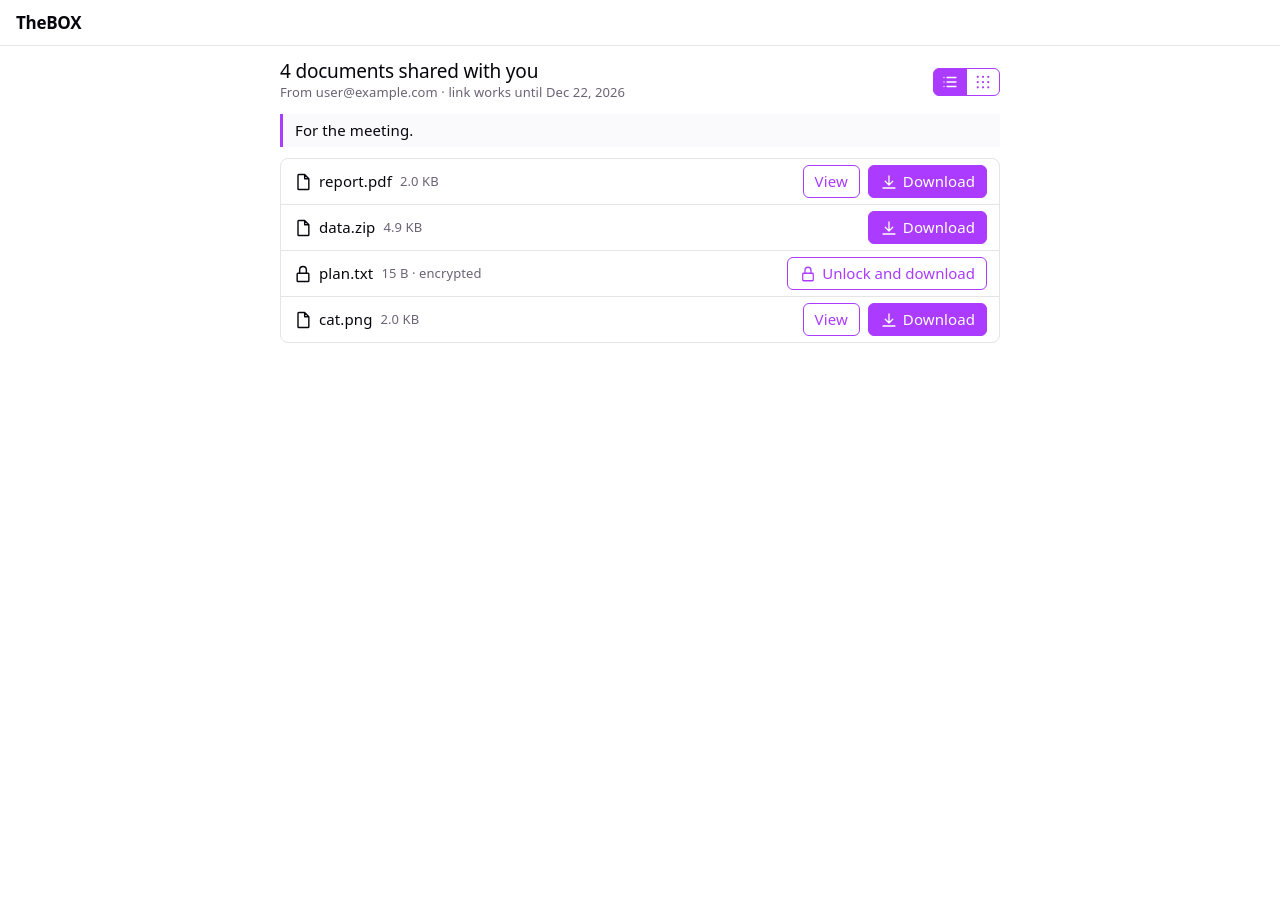
Test: Shared › can show the files as a grid, and photos as a list
The image size is (1280, 900).
Click the button named "Grid view". click: (983,82)
box: 966,68 -> 1000,96
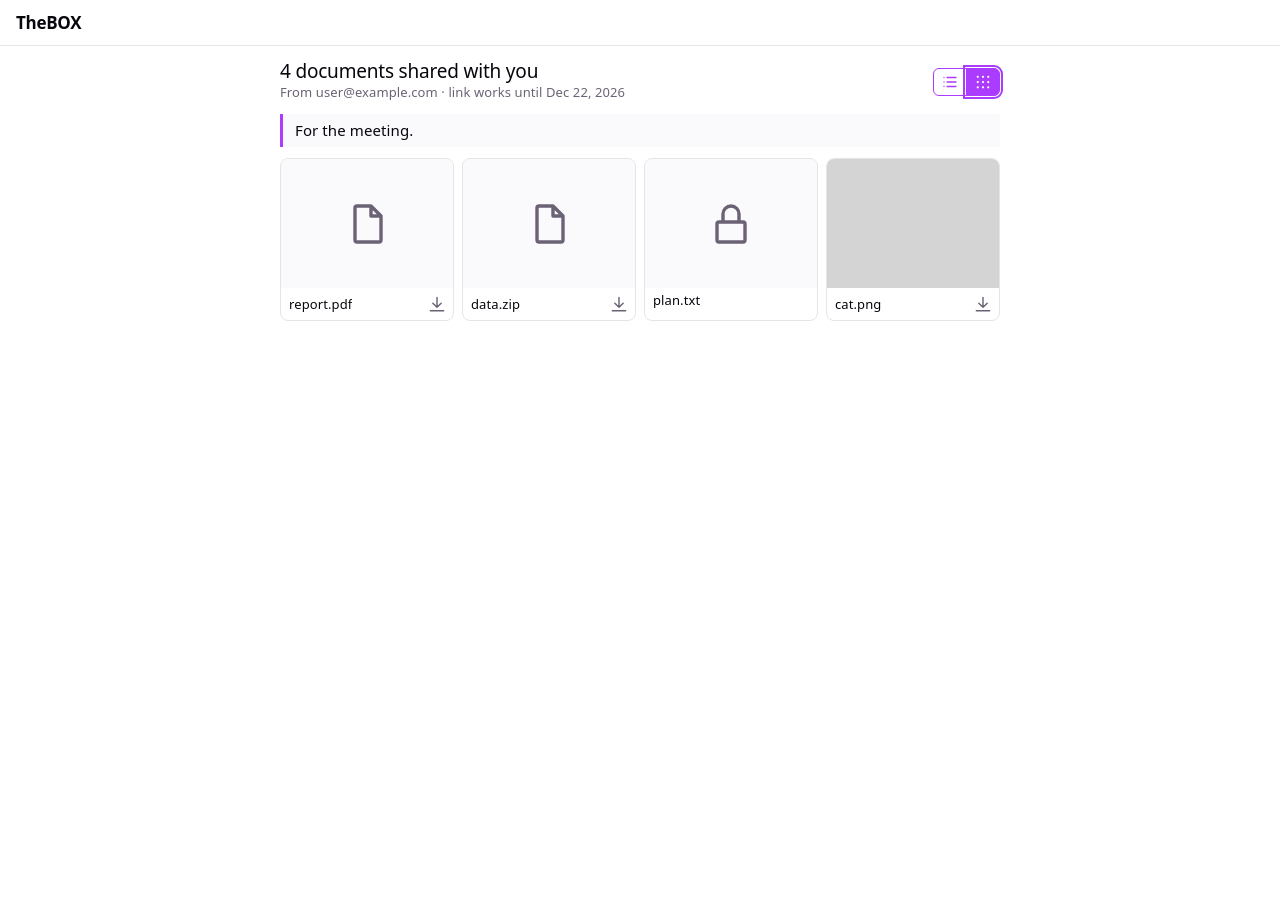
Result: the link named "Download data.zip" is shown at 609,294 -> 629,314
// An encrypted file still asks for its password
Click the button named "Unlock and download plan.txt". click: (731,224)
box: 645,159 -> 817,288
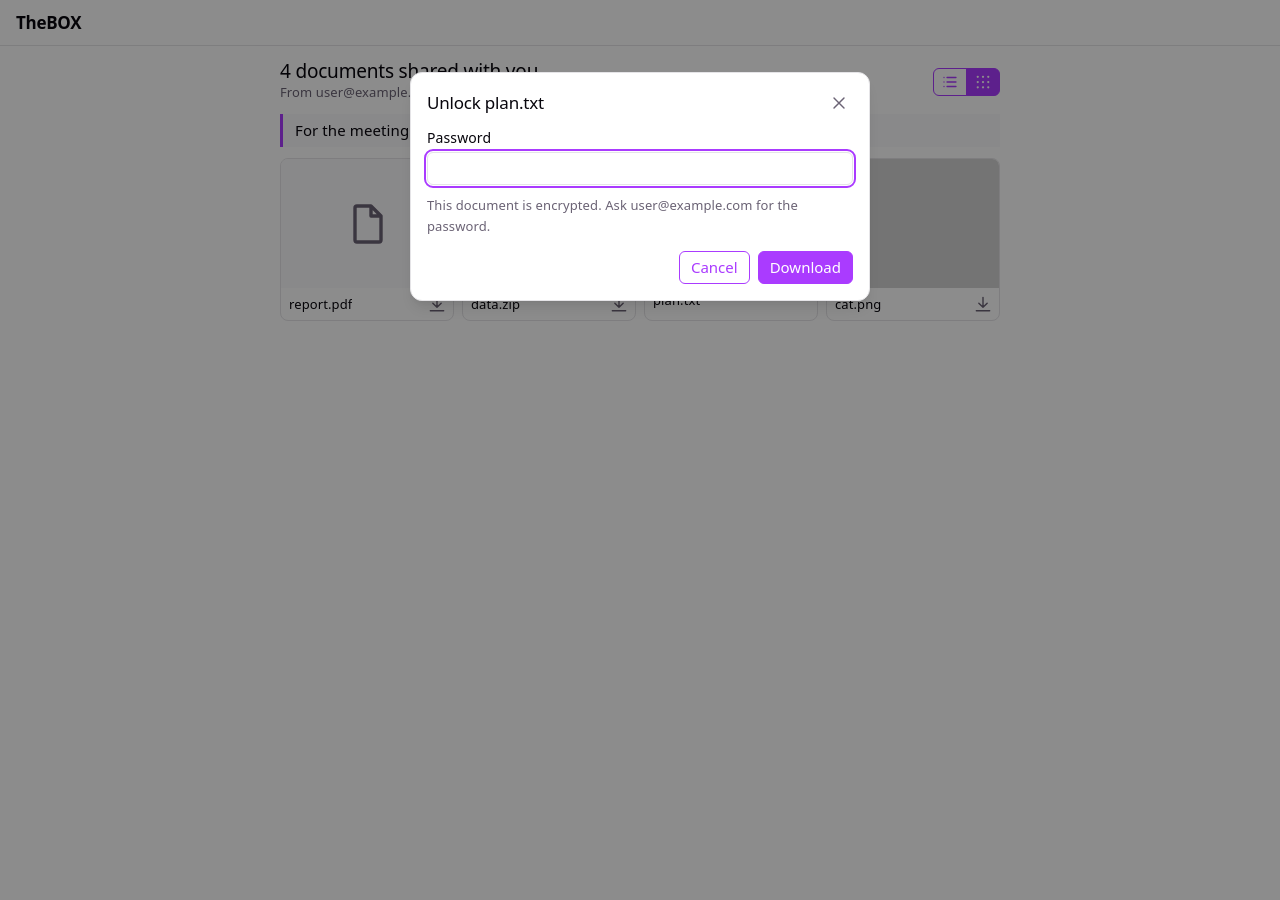
Result: the dialog "Unlock plan.txt" is shown at 410,72 -> 870,301
